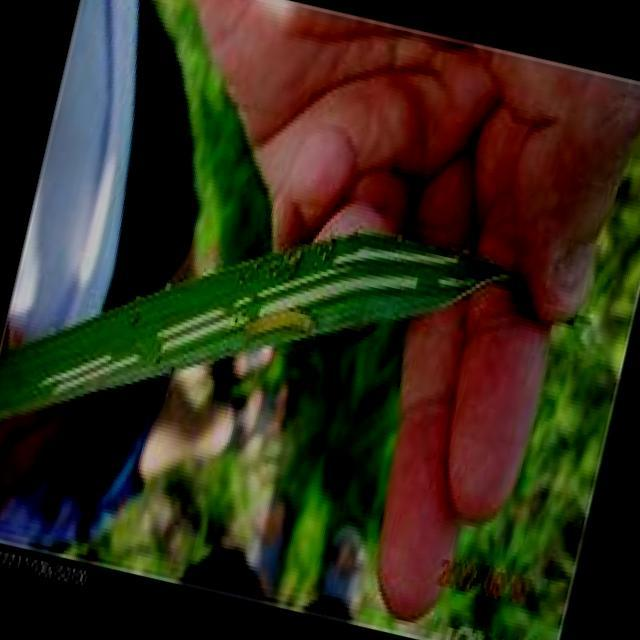leaf folder: (218, 308, 316, 347)
